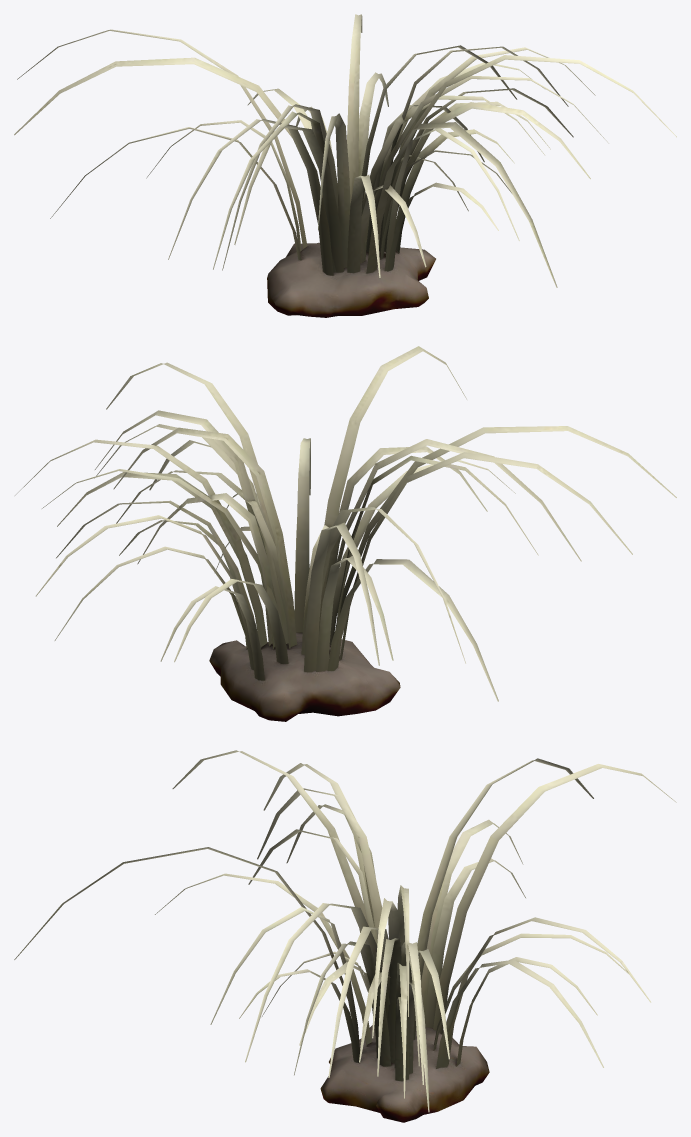
File: grass.glb
The picture shows the model from 3 angles, top to bottom: view 1: azimuth 30°, elevation 25°; view 2: azimuth 150°, elevation 25°; view 3: azimuth 270°, elevation 25°; orthographic projection. The views are drawn at different scales.
Visible parts, largest first — view 1: tint_blades, soil; view 2: tint_blades, soil; view 3: tint_blades, soil.
Boxes of the visible parts, box(x1,y1,x2,y2) form: tint_blades: box(14, 14, 676, 287); soil: box(267, 242, 435, 317); tint_blades: box(15, 346, 676, 701); soil: box(209, 632, 400, 721); tint_blades: box(14, 750, 676, 1112); soil: box(320, 1025, 489, 1122).
Bounding box in the file's own units: 0.4613 × 0.2027 × 0.4955.
2 materials, 2 textured.
